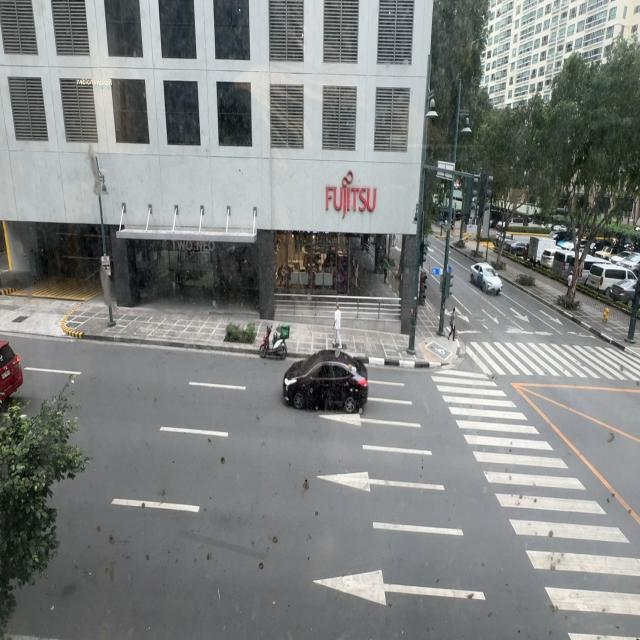pedestrain: (332, 302, 342, 350), (567, 271, 573, 290)
waiting: (448, 307, 457, 342)
